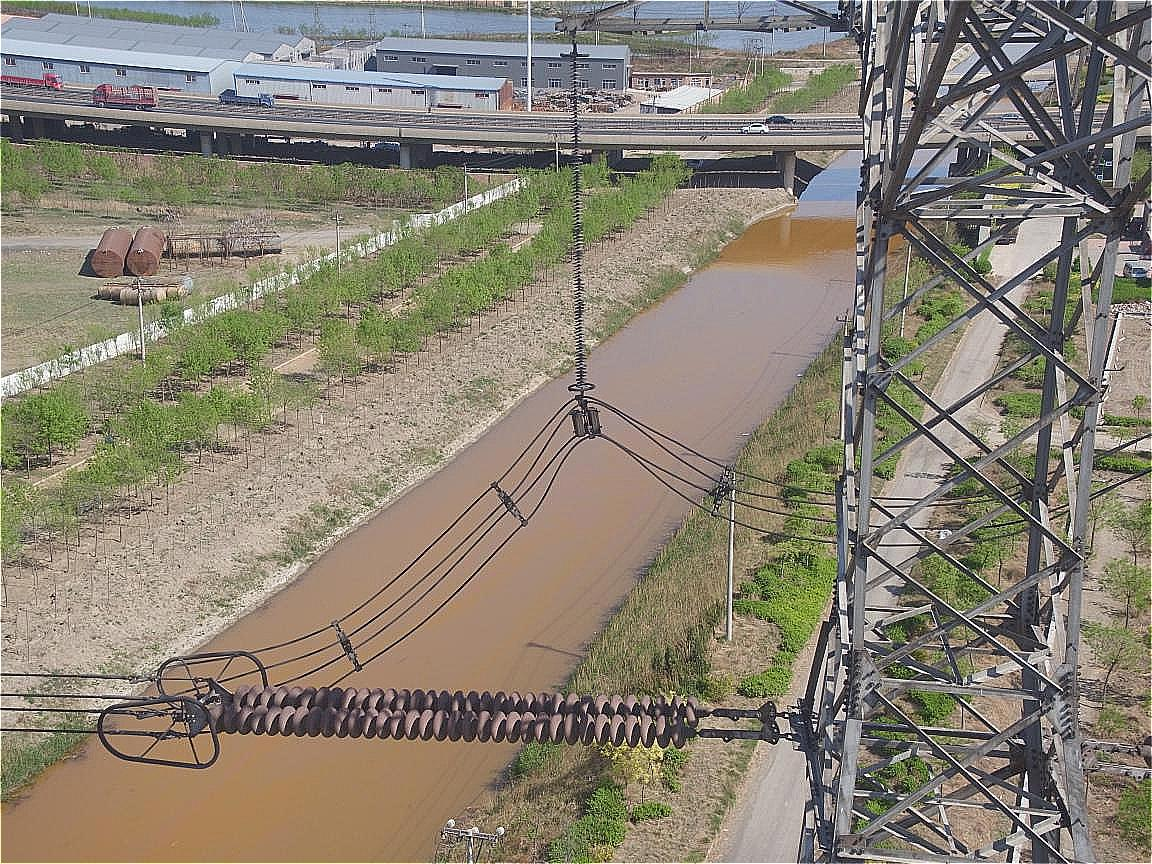insultor1: (189, 670, 713, 770)
